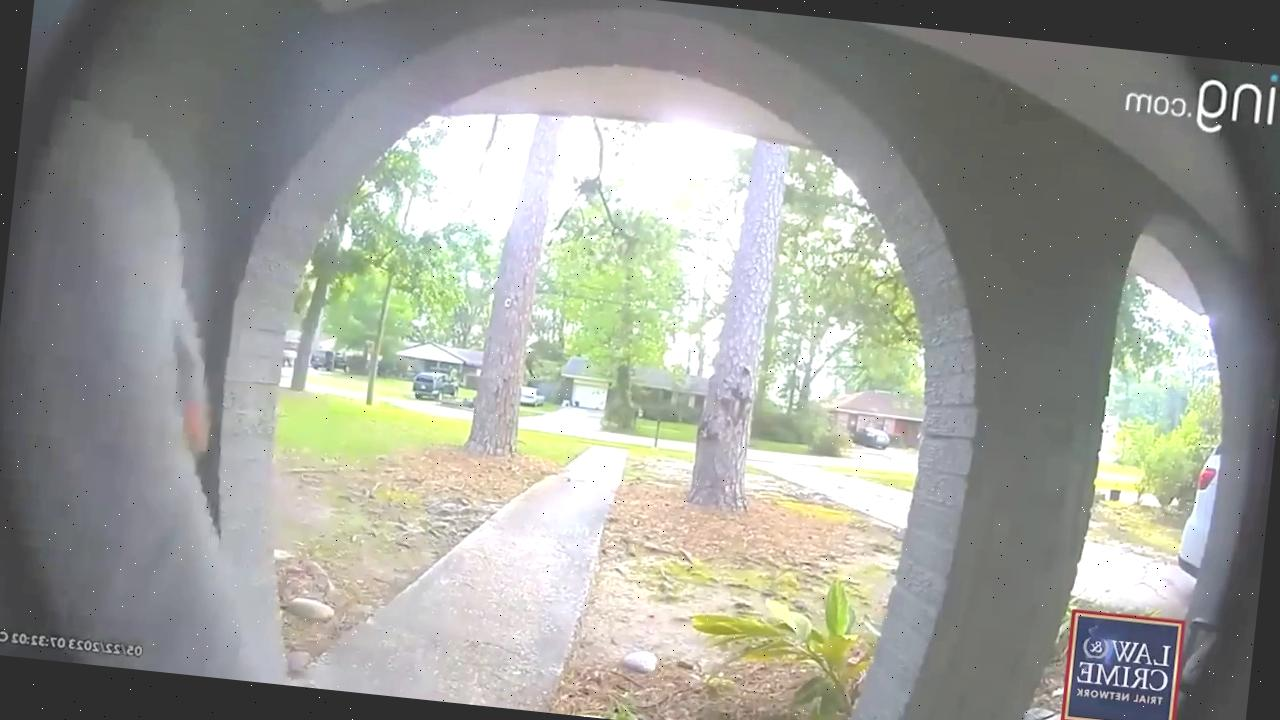suspicion: (0, 44, 308, 680)
